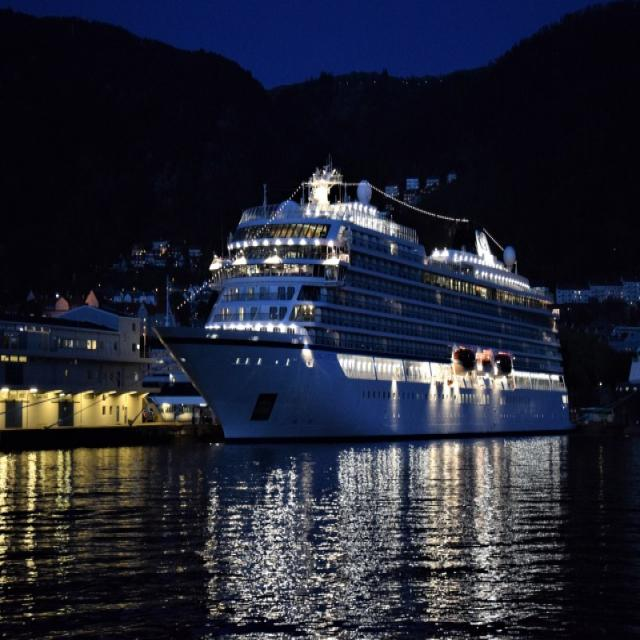cruises: (144, 163, 576, 457)
